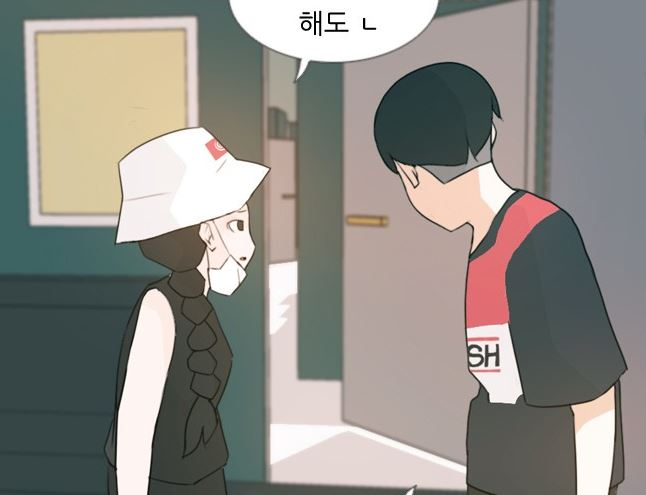hat: (110, 124, 280, 229)
